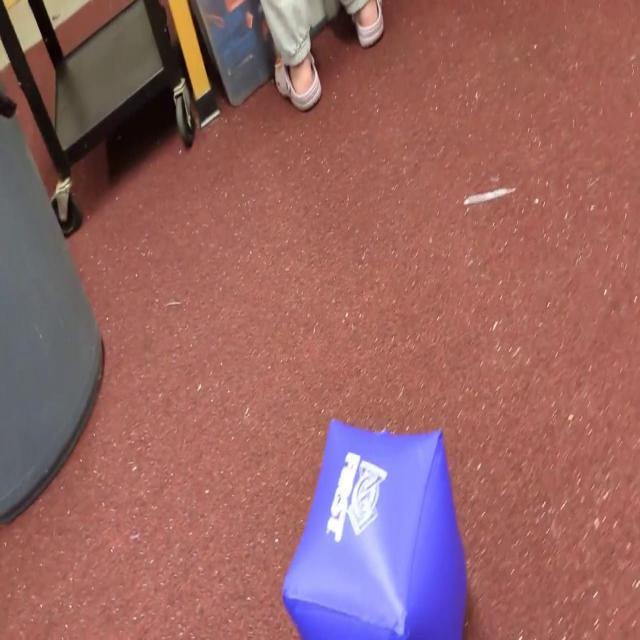frc_cube: (279, 419, 466, 640)
